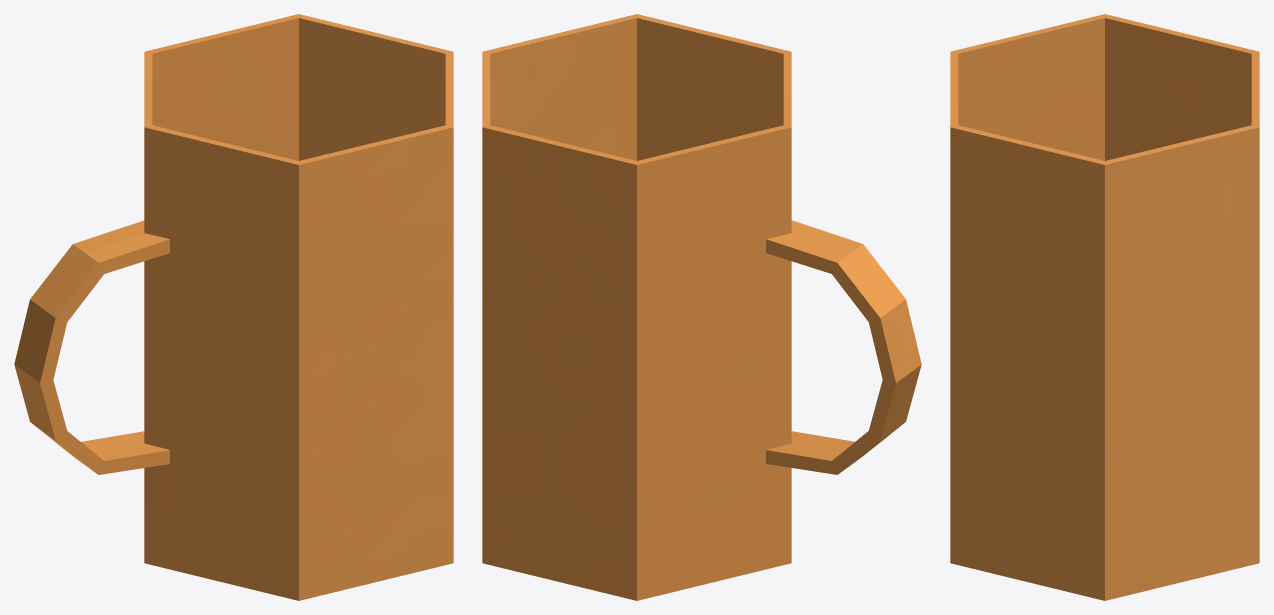
Rendered from Cup_1.fbx.
The picture shows the model from 3 angles, left to right: view 1: azimuth 30°, elevation 25°; view 2: azimuth 150°, elevation 25°; view 3: azimuth 270°, elevation 25°; orthographic projection.
Visible parts, largest first — view 1: Cup 1; view 2: Cup 1; view 3: Cup 1.
Boxes of the visible parts, box(x1,y1,x2,y2) form: Cup 1: box(14, 14, 453, 600); Cup 1: box(482, 14, 921, 600); Cup 1: box(950, 14, 1259, 600).
Bounding box in the file's own units: 15.62 × 15.25 × 9.81.
